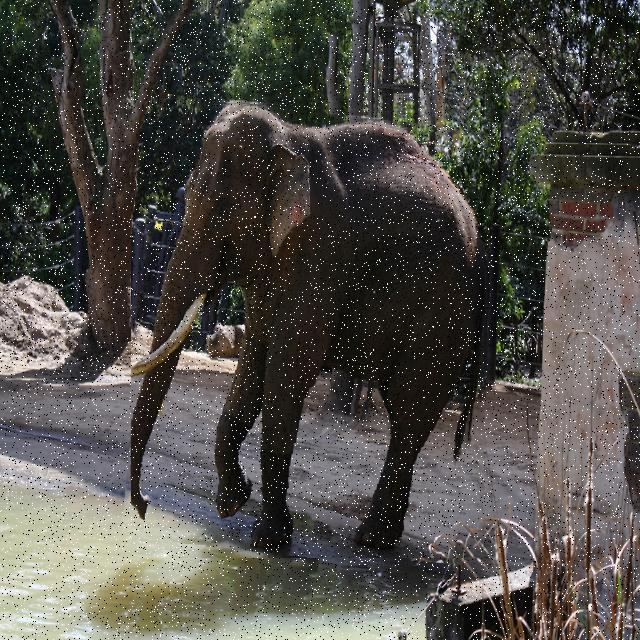elephant: (131, 100, 492, 558)
